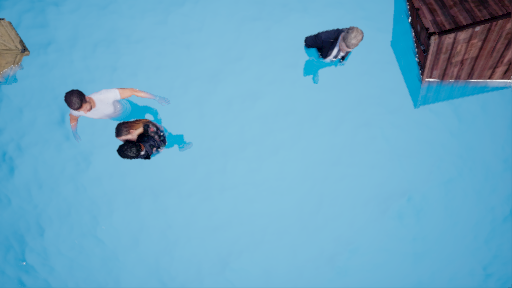person: (59, 82, 198, 172), (280, 20, 367, 88)
